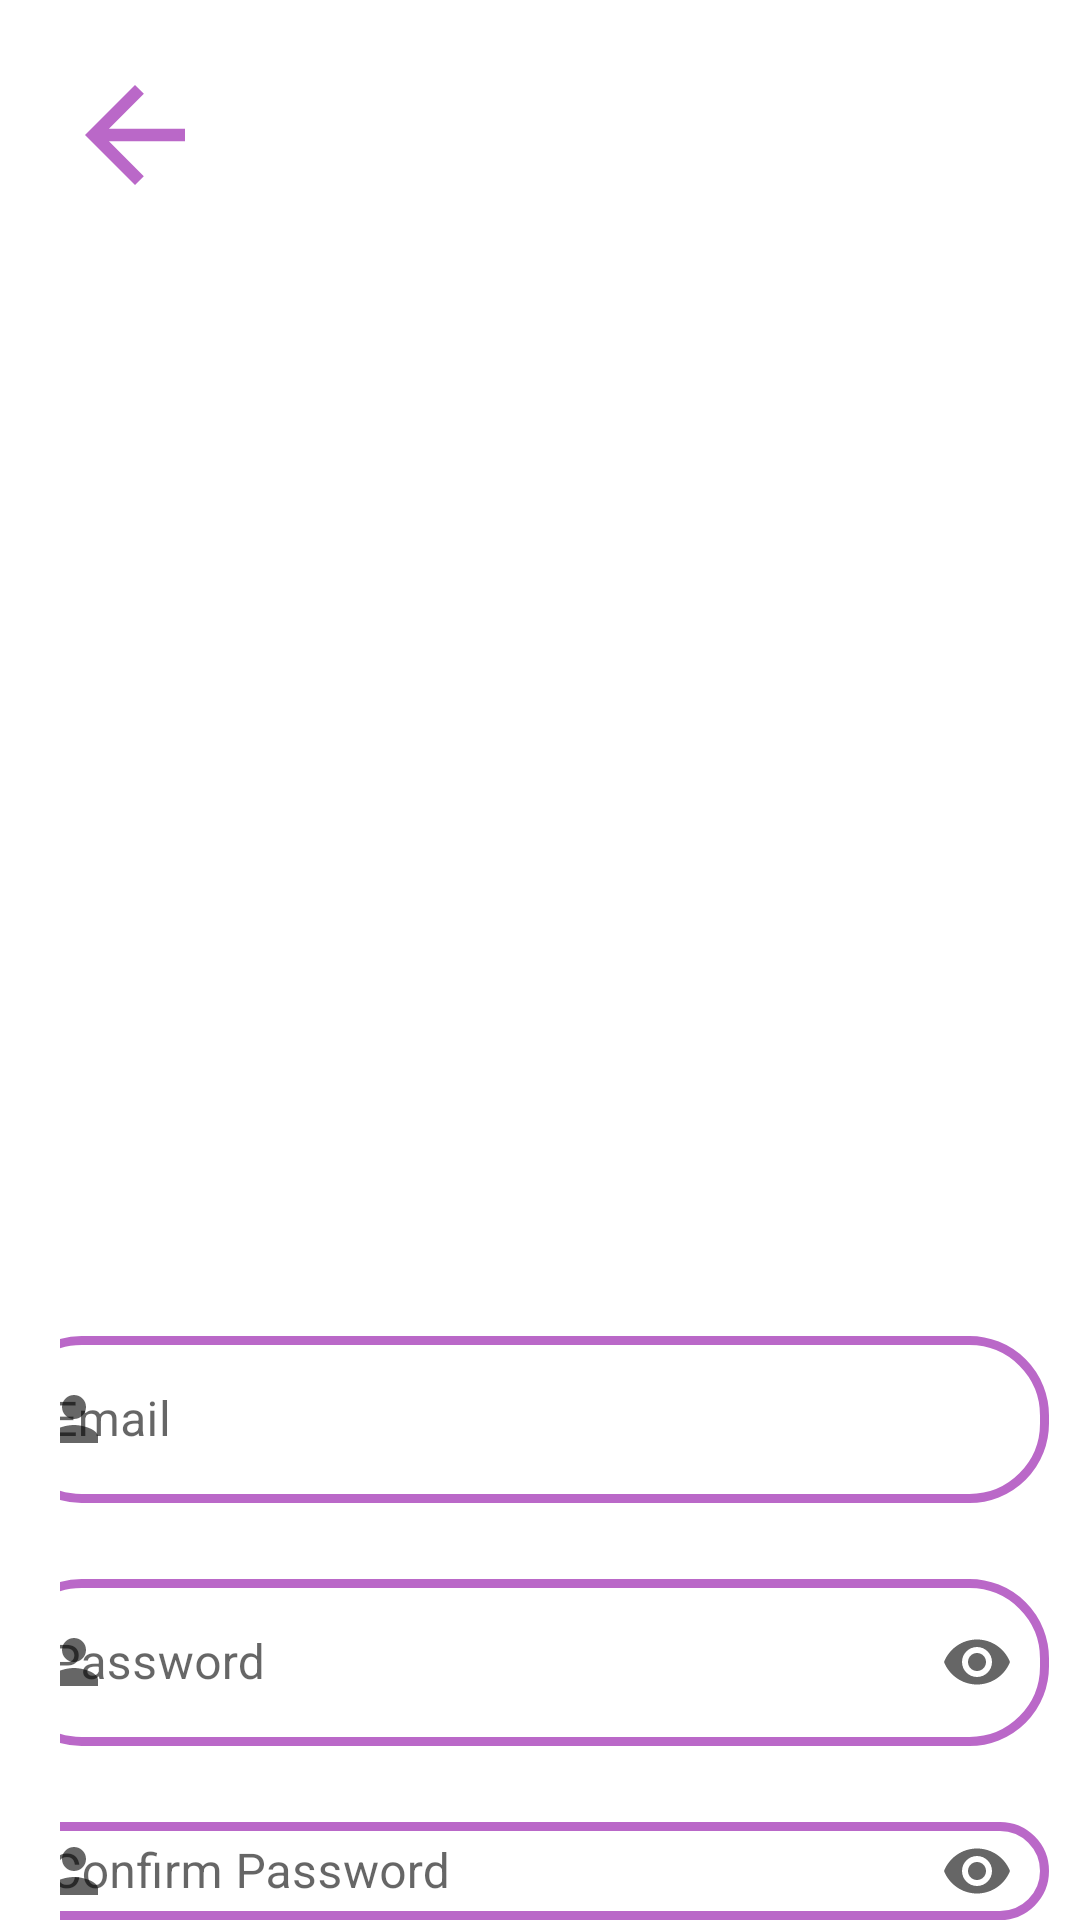

Icons on this 1080px x 1920px Android screen, each with the point to tap as (x,y):
Back arrow: (135,135)
